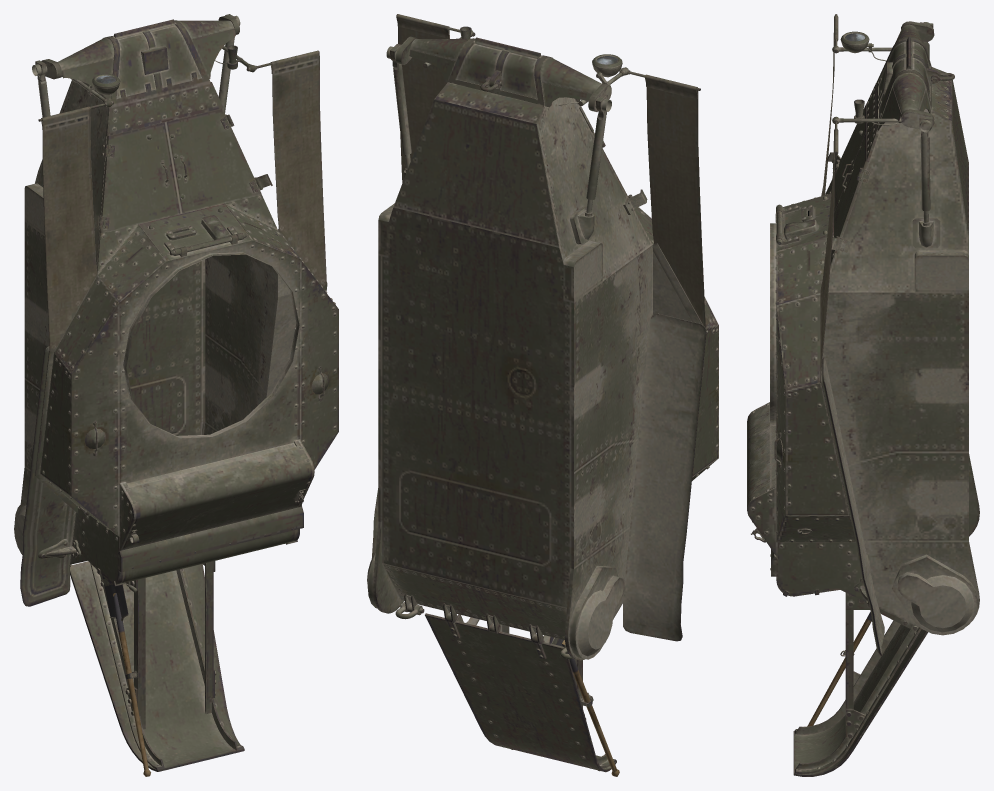
File: Hull.glb
3 views of the same model, side by side, from view 1: azimuth 30°, elevation 25°; view 2: azimuth 150°, elevation 25°; view 3: azimuth 270°, elevation 25° (orthographic). The views are drawn at different scales.
Parts seen in each view (by area): view 1: set_0_group_0; view 2: set_0_group_0; view 3: set_0_group_0.
Part boxes in pixels (bbox=[...]): set_0_group_0: bbox=[14, 14, 338, 776]; set_0_group_0: bbox=[367, 14, 718, 776]; set_0_group_0: bbox=[747, 14, 979, 776].
Size of the model in its own units: 1.75 by 4.14 by 1.23.
Materials: 1 (1 with a texture image).
